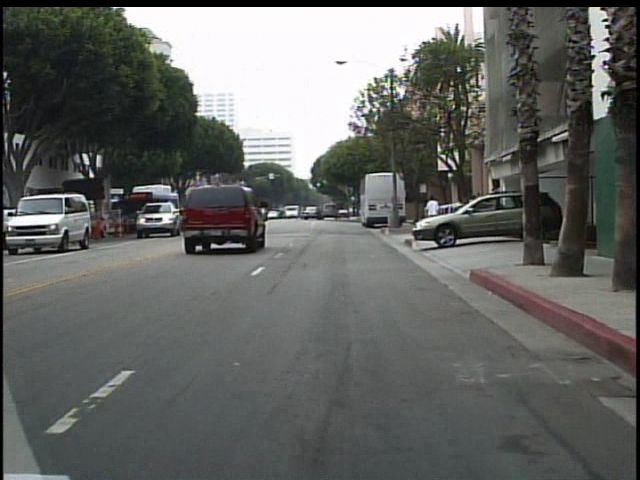person: (421, 193, 443, 236)
